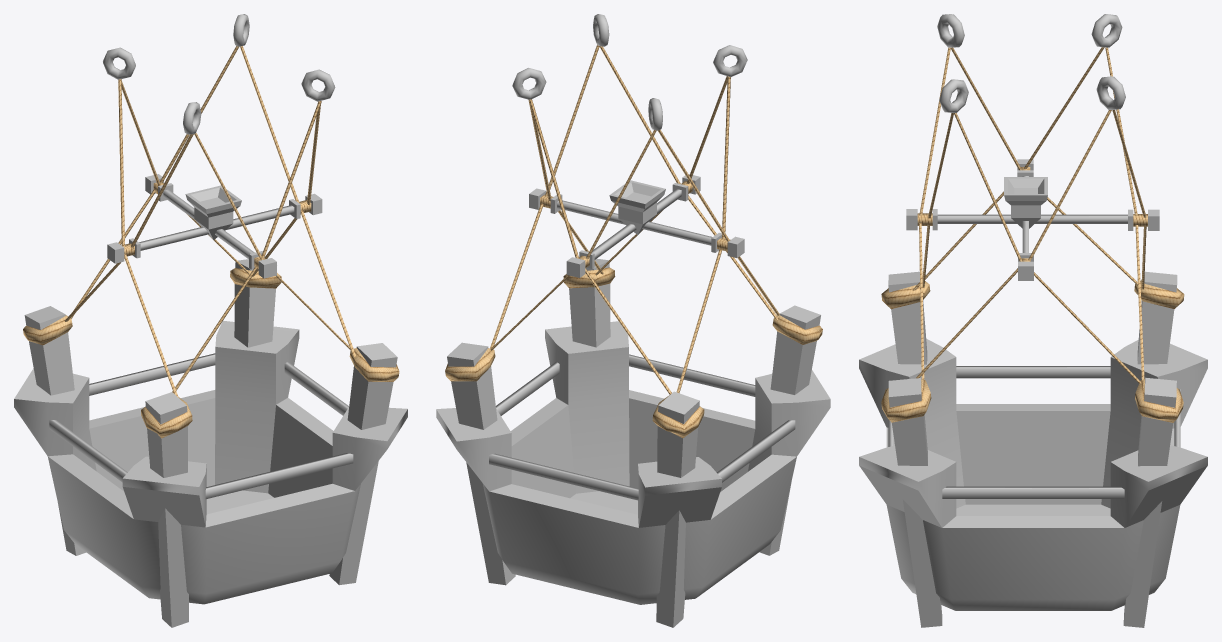
Rendered from HotAirBalloon_basket_LOD0.fbx.
3 views of the same model, side by side, from view 1: azimuth 30°, elevation 25°; view 2: azimuth 150°, elevation 25°; view 3: azimuth 270°, elevation 25° (orthographic). The views are drawn at different scales.
Parts seen in each view (by area): view 1: Basket_LOD0; view 2: Basket_LOD0; view 3: Basket_LOD0.
Part boxes in pixels (<box>): Basket_LOD0: <box>14,14,407,627</box>; Basket_LOD0: <box>436,14,830,627</box>; Basket_LOD0: <box>859,14,1207,627</box>.
Size of the model in its own units: 4.3 by 7.33 by 4.3.
